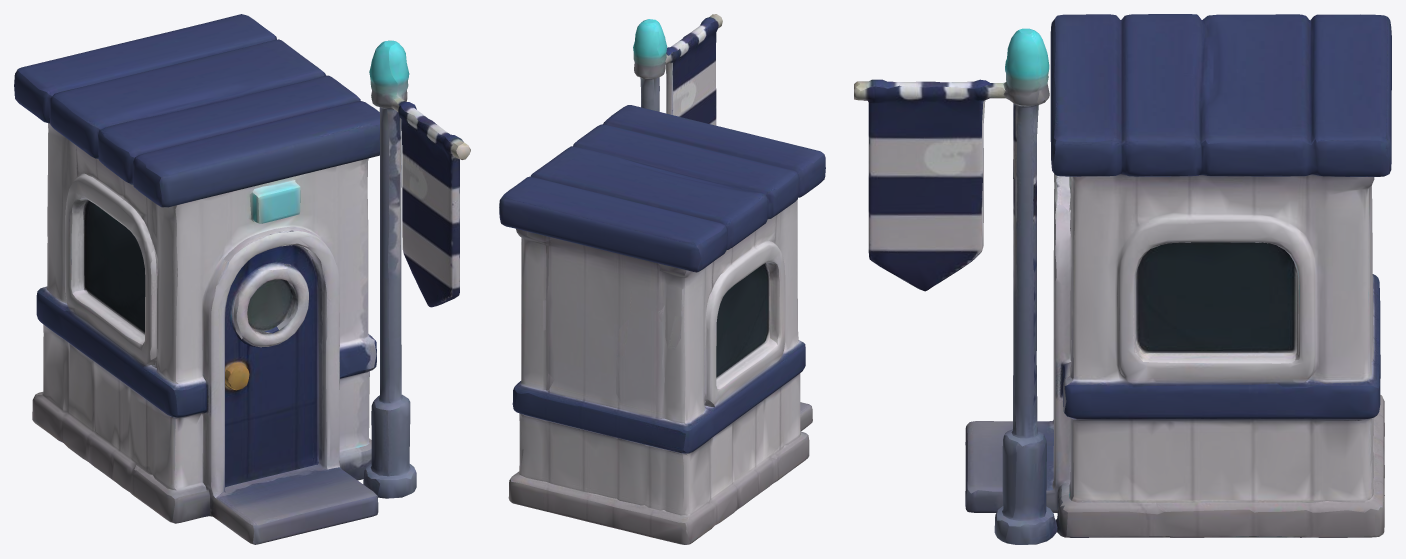
The model's file is guard_post.glb.
3 renders of one model, left to right at view 1: azimuth 30°, elevation 25°; view 2: azimuth 150°, elevation 25°; view 3: azimuth 270°, elevation 25°, orthographic. The views are drawn at different scales.
Visible parts, largest first — view 1: guard_post_s51; view 2: guard_post_s51; view 3: guard_post_s51.
Boxes of the visible parts, <box> form: guard_post_s51: <box>14,14,470,544</box>; guard_post_s51: <box>499,14,825,544</box>; guard_post_s51: <box>854,14,1391,544</box>.
Size of the model in its own units: 0.5657 by 1 by 0.9678.
1 material, 1 textured.
